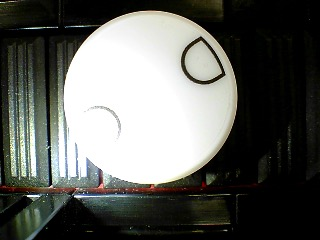MIPO2: (62, 10, 238, 185)
